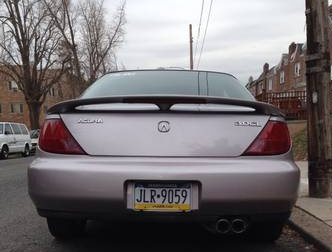acura: (25, 58, 303, 234)
